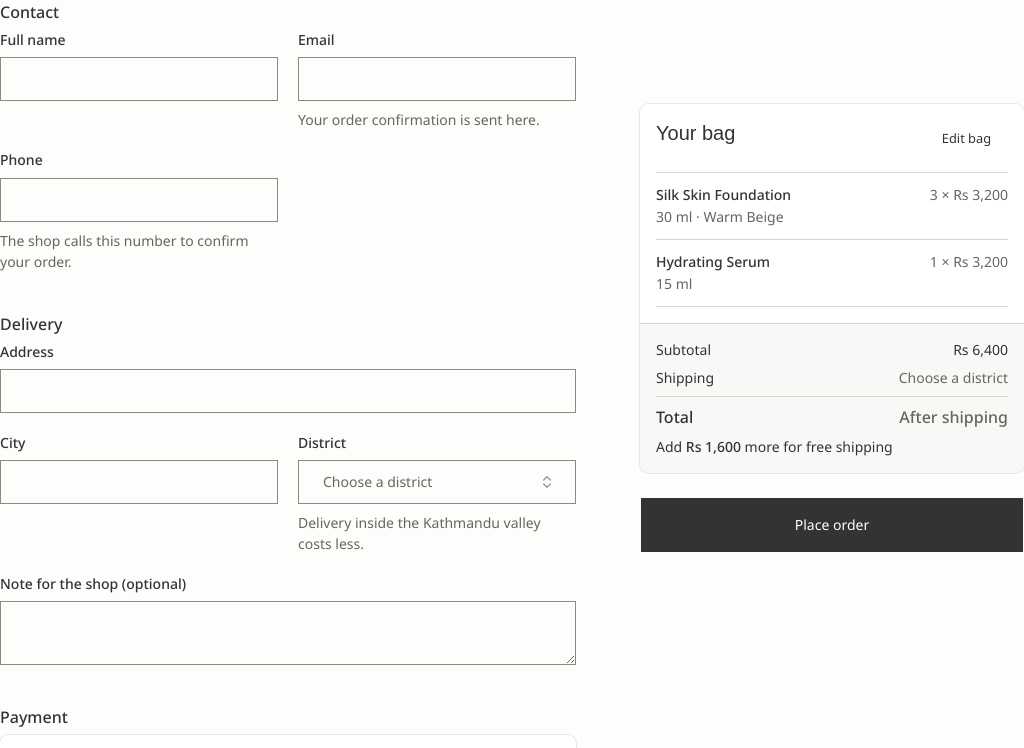
Test case: CheckoutForm's quoted summary › quotes without a district first, then re-quotes with it and shows the API's total
Expected: the text "Rs 6,400" is shown, [953,340,1008,359]
Expected: the text "After shipping" is shown, [899,406,1008,428]
Click the dropdown labelled "district" at (378, 482), box [298,460,576,504]
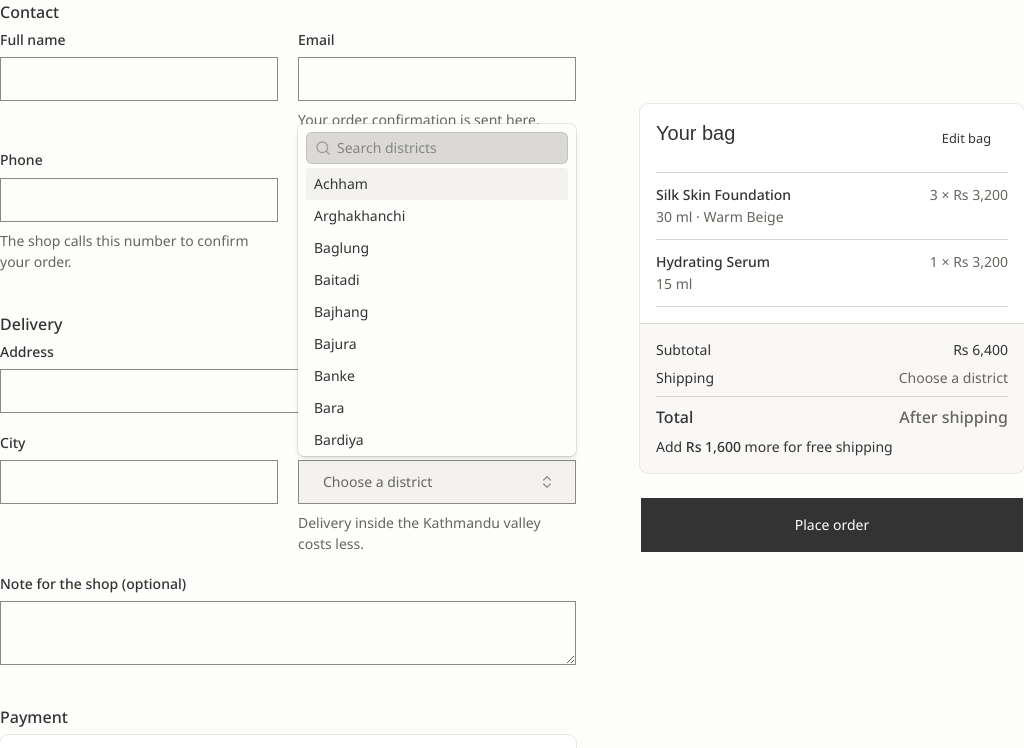
Type "Lalit" into the dropdown with placeholder "Search districts" at (449, 148), box [331,138,567,158]
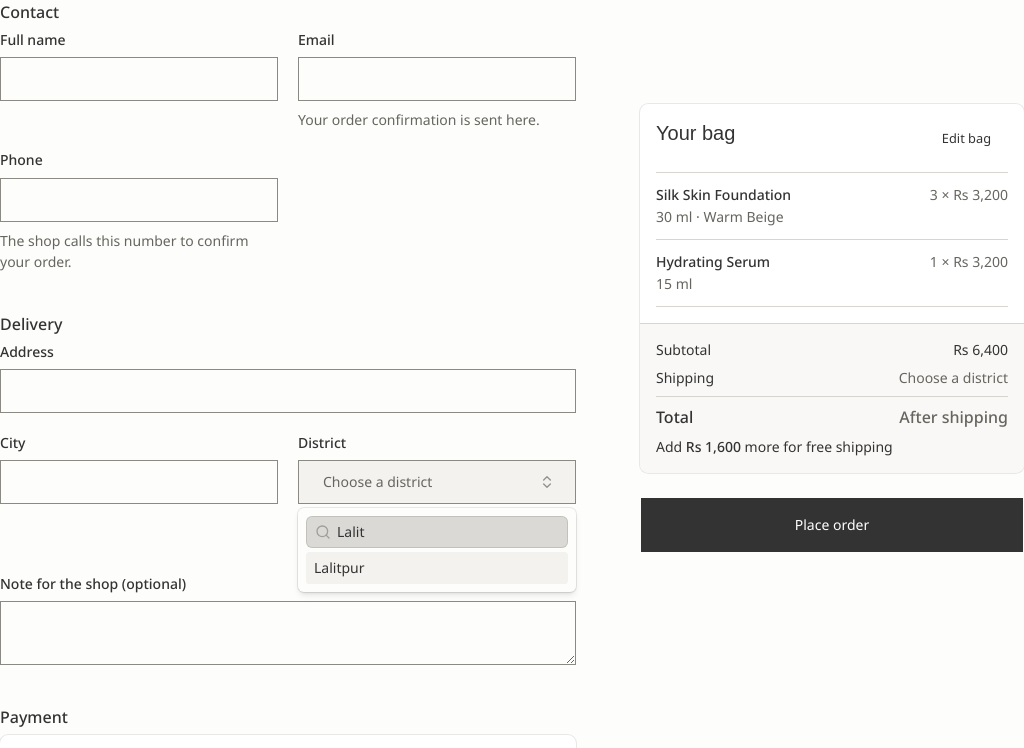
Click the option "Lalitpur" at (339, 568), box [306,552,568,584]
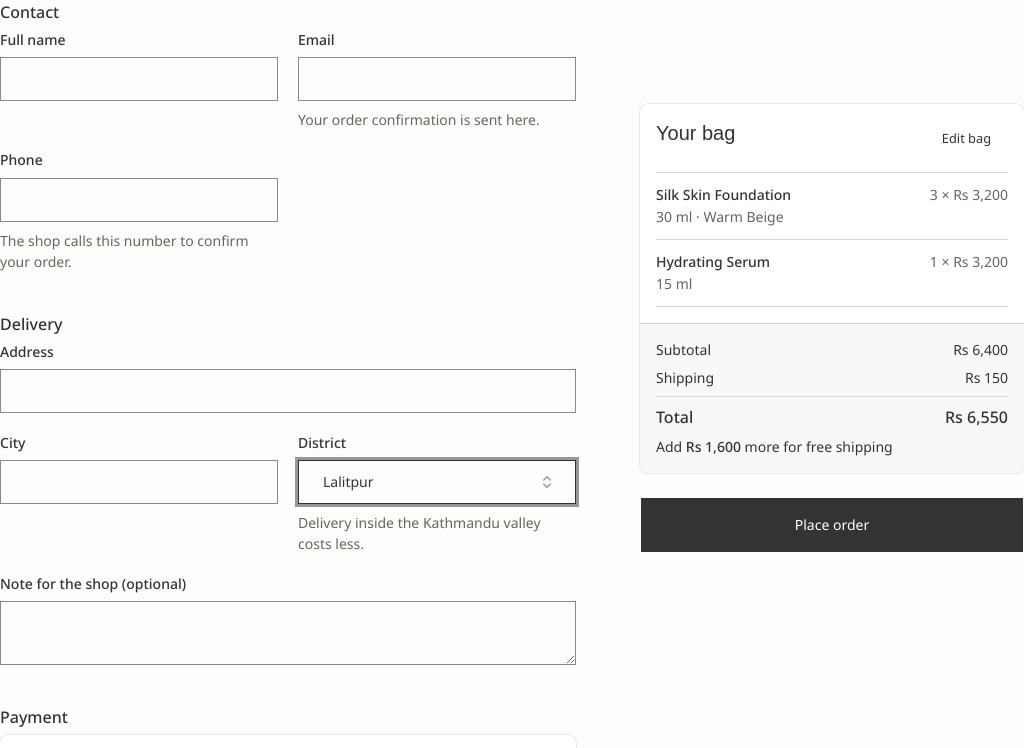
Expected: the text "Rs 6,550" is shown, [945,406,1008,428]
Expected: the text "Rs 150" is shown, [965,368,1008,387]
Expected: the dropdown named "District" reads "Lalitpur", [298,460,576,504]
